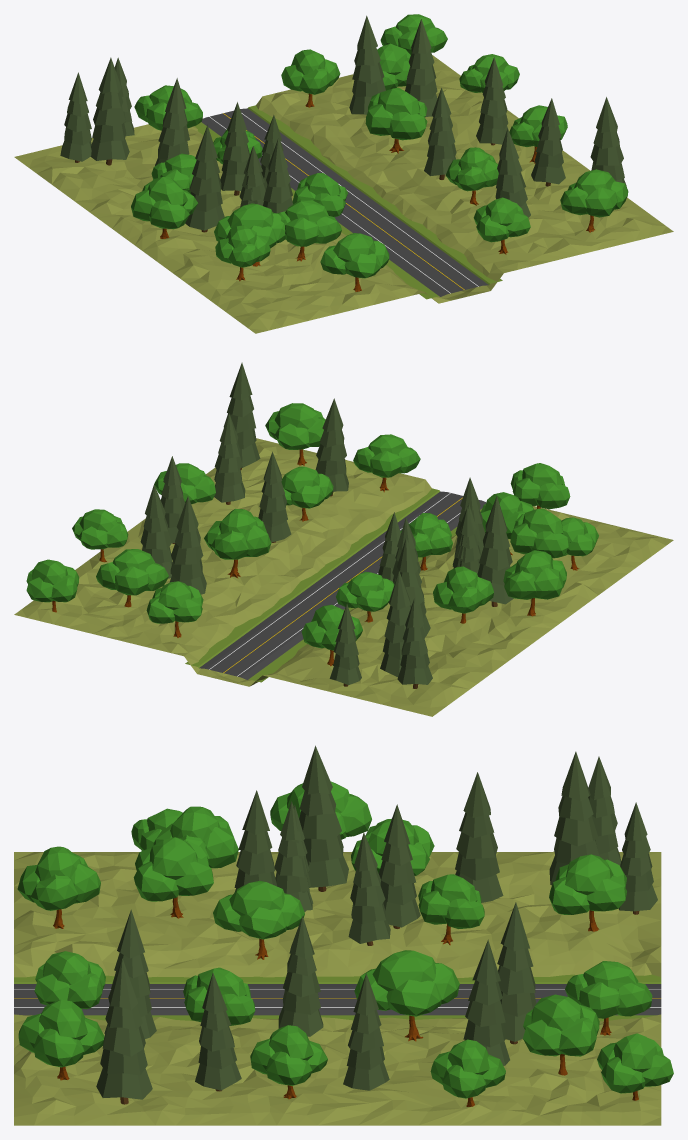
File: load1.fbx
3 renders of one model, top to bottom at view 1: azimuth 30°, elevation 25°; view 2: azimuth 150°, elevation 25°; view 3: azimuth 270°, elevation 25°, orthographic. The views are drawn at different scales.
Visible parts, largest first — view 1: Plane.001, Plane, Plane.001|oakTree|Dupli|10, Plane.001|pineTree05|Dupli|5, Plane.001|oakTree|Dupli|2, Plane.001|pineTree05|Dupli|23, Plane.001|oakTree|Dupli|14, Plane.001|oakTree|Dupli|12, Plane.001|oakTree|Dupli|, Plane.001|pineTree05|Dupli|17, Plane.001|oakTree|Dupli|8, Plane.001|oakTree|Dupli|24 (+24 smaller); view 2: Plane.001, Plane, Plane.001|oakTree|Dupli|10, Plane.001|oakTree|Dupli|2, Plane.001|oakTree|Dupli|16, Plane.001|oakTree|Dupli|14, Plane.001|pineTree05|Dupli|23, Plane.001|oakTree|Dupli|4, Plane.001|pineTree05|Dupli|17, Plane.001|oakTree|Dupli|24, Plane.001|oakTree|Dupli|30, Plane.001|oakTree|Dupli|12 (+24 smaller); view 3: Plane.001, Plane, Plane.001|pineTree05|Dupli|31, Plane.001|oakTree|Dupli|10, Plane.001|pineTree05|Dupli|23, Plane.001|oakTree|Dupli|, Plane.001|oakTree|Dupli|14, Plane.001|oakTree|Dupli|16, Plane.001|oakTree|Dupli|22, Plane.001|oakTree|Dupli|20, Plane.001|oakTree|Dupli|12, Plane.001|pineTree05|Dupli|9 (+24 smaller).
Boxes of the visible parts, x1,y1,x2,y2 form: Plane.001: [14, 55, 673, 333]; Plane: [194, 105, 502, 299]; Plane.001|oakTree|Dupli|10: [365, 87, 427, 153]; Plane.001|pineTree05|Dupli|5: [91, 57, 129, 165]; Plane.001|oakTree|Dupli|2: [131, 176, 197, 238]; Plane.001|pineTree05|Dupli|23: [185, 125, 224, 232]; Plane.001|oakTree|Dupli|14: [560, 169, 628, 232]; Plane.001|oakTree|Dupli|12: [320, 233, 389, 291]; Plane.001|oakTree|Dupli|: [277, 200, 341, 261]; Plane.001|pineTree05|Dupli|17: [349, 15, 385, 114]; Plane.001|oakTree|Dupli|8: [281, 49, 340, 107]; Plane.001|oakTree|Dupli|24: [473, 197, 530, 254]; Plane.001: [14, 438, 673, 716]; Plane: [185, 488, 486, 682]; Plane.001|oakTree|Dupli|10: [204, 508, 271, 578]; Plane.001|oakTree|Dupli|2: [503, 550, 566, 616]; Plane.001|oakTree|Dupli|16: [96, 549, 168, 607]; Plane.001|oakTree|Dupli|14: [265, 403, 325, 465]; Plane.001|pineTree05|Dupli|23: [477, 496, 513, 606]; Plane.001|oakTree|Dupli|4: [510, 508, 569, 558]; Plane.001|pineTree05|Dupli|17: [169, 496, 206, 594]; Plane.001|oakTree|Dupli|24: [353, 434, 420, 492]; Plane.001|oakTree|Dupli|30: [433, 566, 493, 623]; Plane.001|oakTree|Dupli|12: [510, 463, 570, 509]; Plane.001: [14, 851, 661, 1125]; Plane: [14, 974, 661, 1021]; Plane.001|pineTree05|Dupli|31: [96, 958, 152, 1104]; Plane.001|oakTree|Dupli|10: [354, 950, 459, 1041]; Plane.001|pineTree05|Dupli|23: [299, 745, 348, 891]; Plane.001|oakTree|Dupli|: [133, 837, 213, 918]; Plane.001|oakTree|Dupli|14: [18, 999, 104, 1080]; Plane.001|oakTree|Dupli|16: [523, 994, 599, 1075]; Plane.001|oakTree|Dupli|22: [213, 881, 304, 959]; Plane.001|oakTree|Dupli|20: [549, 854, 626, 931]; Plane.001|oakTree|Dupli|12: [17, 846, 100, 928]; Plane.001|pineTree05|Dupli|9: [455, 772, 503, 902].
Size of the model in its own units: 12528 by 3906 by 12238.
